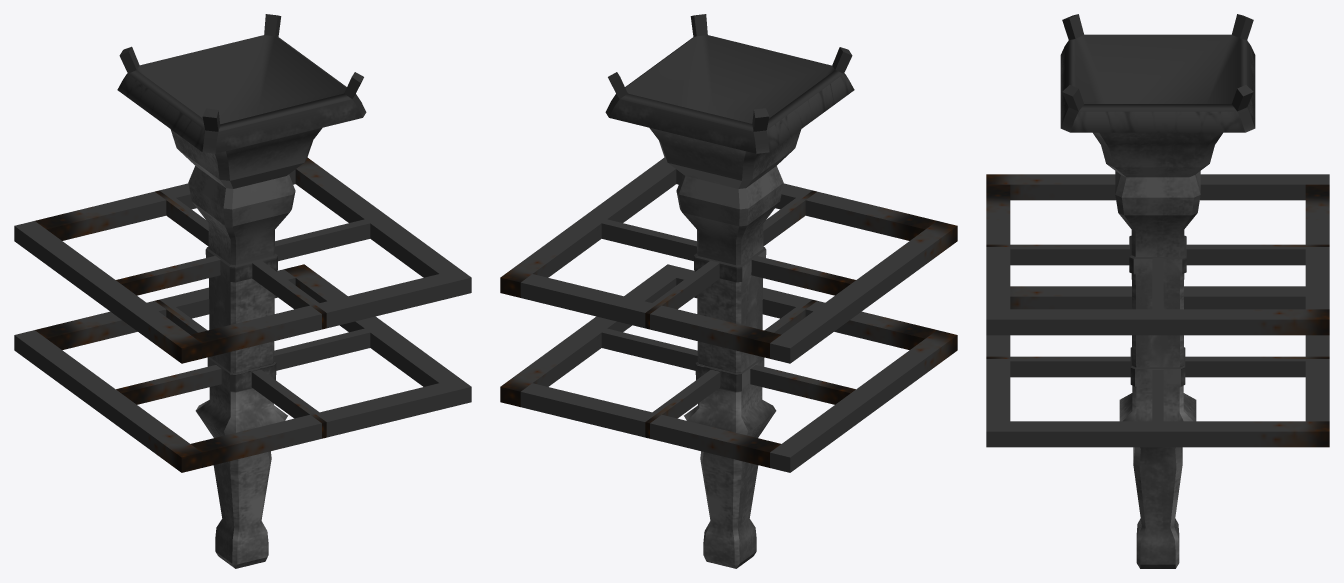
The model's file is Torch.fbx.
3 renders of one model, left to right at view 1: azimuth 30°, elevation 25°; view 2: azimuth 150°, elevation 25°; view 3: azimuth 270°, elevation 25°, orthographic. The views are drawn at different scales.
Visible parts, largest first — view 1: Torch26; view 2: Torch26; view 3: Torch26.
Part boxes in pixels (x1=…): Torch26: x1=14, y1=14, x2=471, y2=568; Torch26: x1=500, y1=14, x2=957, y2=568; Torch26: x1=986, y1=14, x2=1329, y2=568.
Size of the model in its own units: 0.5344 by 0.8756 by 0.5344.
Materials: 1 (1 with a texture image).
